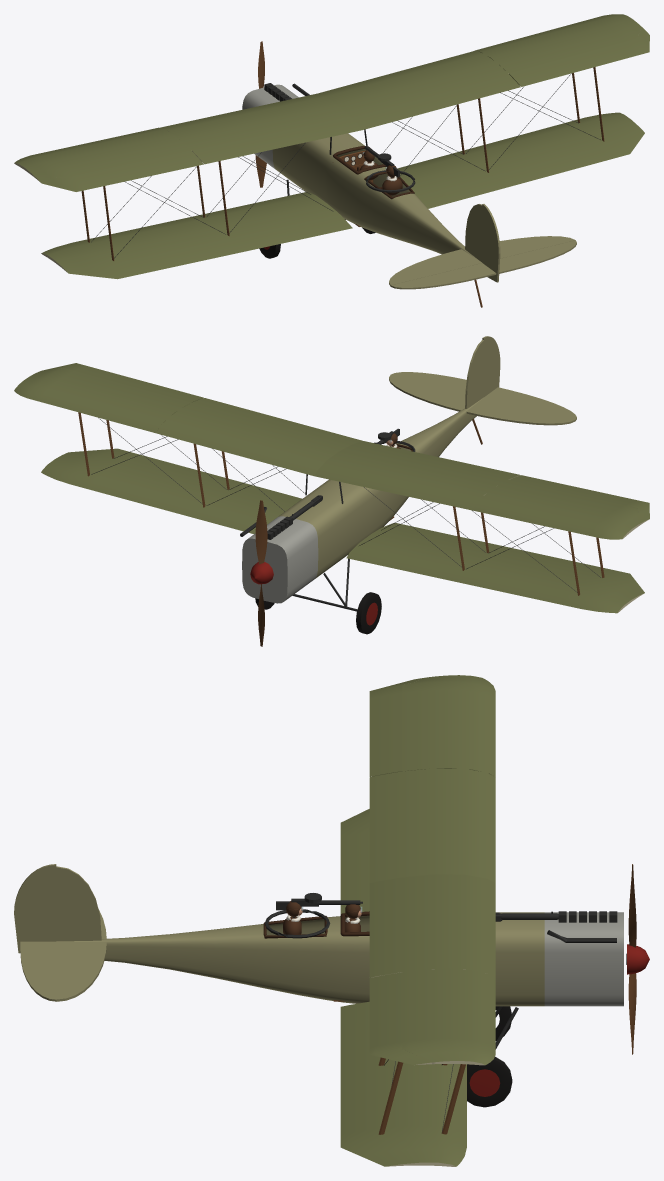
File: rumpler_civ.glb
3 renders of one model, top to bottom at view 1: azimuth 30°, elevation 25°; view 2: azimuth 150°, elevation 25°; view 3: azimuth 270°, elevation 25°, orthographic. The views are drawn at different scales.
Parts seen in each view (by area): view 1: Wing_Upper_R, Wing_Lower_L, Wing_Upper_L, Wing_Lower_R, Fuselage, Aileron_L, Aileron_R, Elevator, Struts, Stabilizer_L, Wires, Rudder (+4 smaller); view 2: Wing_Upper_R, Wing_Upper_L, Wing_Lower_L, Fuselage, Wing_Lower_R, Elevator, Stabilizer_L, Struts, Stabilizer_R, PropBlades, Wires, Aileron_L (+5 smaller); view 3: Fuselage, Wing_Upper_L, Wing_Upper_R, Wing_Lower_R, Aileron_R, Aileron_L, Rudder, Fin, Wing_Lower_L, Stabilizer_R, Wheels, Elevator (+4 smaller).
Part boxes in pixels (<box>): Wing_Upper_R: <box>318,14,642,129</box>; Wing_Lower_L: <box>41,191,352,279</box>; Wing_Upper_L: <box>14,93,362,178</box>; Wing_Lower_R: <box>397,112,644,208</box>; Fuselage: <box>242,84,481,262</box>; Aileron_L: <box>34,151,203,191</box>; Aileron_R: <box>509,28,649,86</box>; Elevator: <box>391,240,576,289</box>; Struts: <box>81,67,604,260</box>; Stabilizer_L: <box>389,249,481,286</box>; Wires: <box>91,73,600,258</box>; Rudder: <box>482,204,500,282</box>; Wing_Upper_R: <box>14,367,362,475</box>; Wing_Upper_L: <box>314,441,642,539</box>; Wing_Lower_L: <box>346,523,644,613</box>; Fuselage: <box>242,397,483,603</box>; Wing_Lower_R: <box>41,448,302,533</box>; Elevator: <box>391,372,576,420</box>; Stabilizer_L: <box>466,397,575,425</box>; Struts: <box>78,412,604,595</box>; Stabilizer_R: <box>389,374,465,411</box>; PropBlades: <box>250,500,273,646</box>; Wires: <box>91,417,600,592</box>; Aileron_L: <box>509,475,649,523</box>; Fuselage: <box>56,912,623,1006</box>; Wing_Upper_L: <box>369,675,495,882</box>; Wing_Upper_R: <box>369,874,495,1065</box>; Wing_Lower_R: <box>340,1001,466,1166</box>; Aileron_R: <box>369,972,432,1065</box>; Aileron_L: <box>369,677,430,776</box>; Rudder: <box>14,864,56,953</box>; Fin: <box>56,866,101,941</box>; Wing_Lower_L: <box>340,809,369,914</box>; Stabilizer_R: <box>56,941,106,1001</box>; Wheels: <box>467,1006,512,1107</box>; Elevator: <box>20,941,56,1001</box>.
Size of the model in its own units: 12.66 by 3.22 by 8.82.
